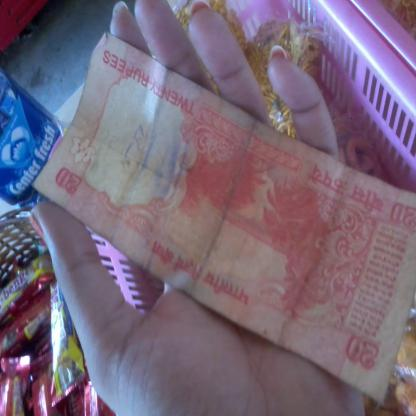Old20Back: (32, 32, 416, 406)
